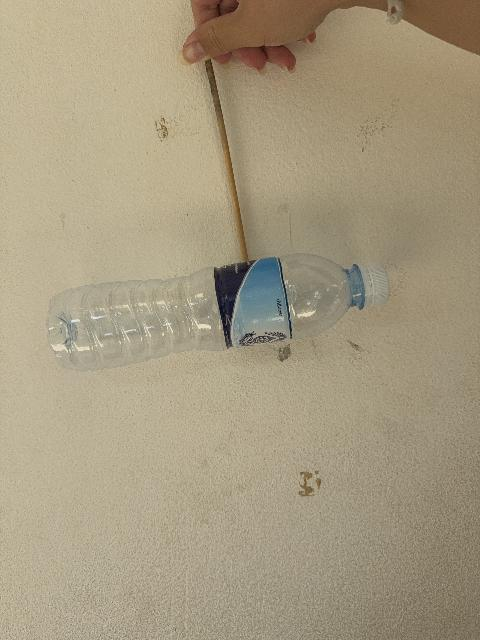bottle: (47, 254, 389, 370)
